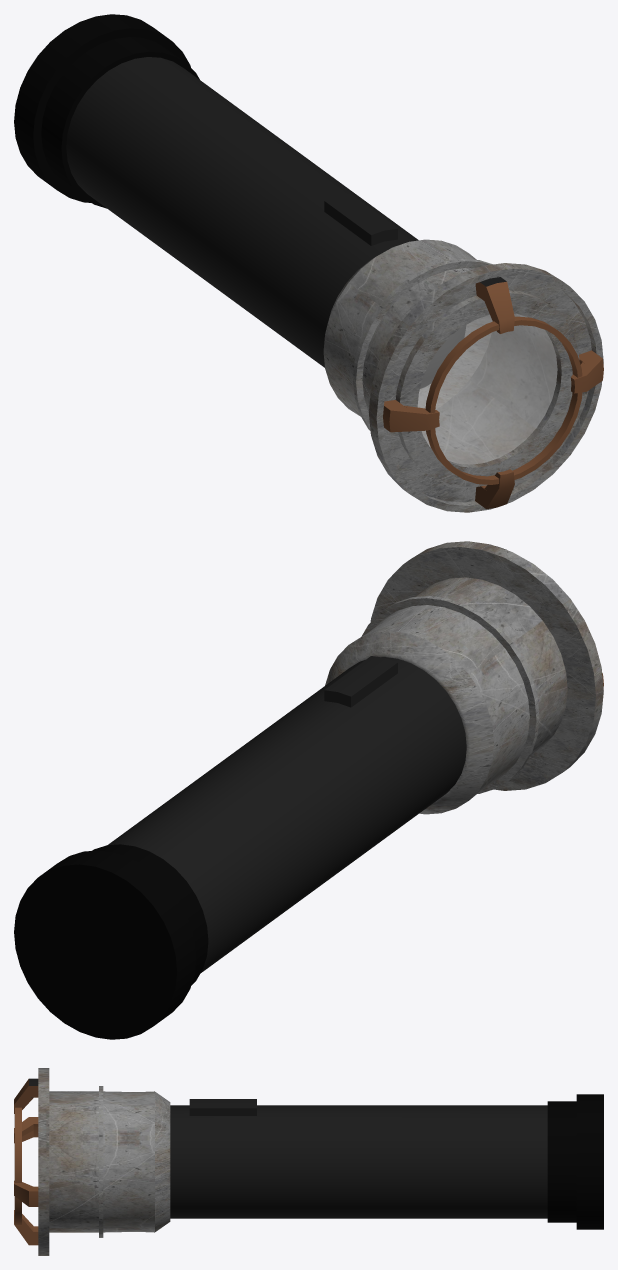
File: 懐中電灯.fbx
3 views of the same model, one above another, from view 1: azimuth 30°, elevation 25°; view 2: azimuth 150°, elevation 25°; view 3: azimuth 270°, elevation 25° (orthographic). The views are drawn at different scales.
Visible parts, largest first — view 1: FlashLight, FlashLight_FrontGlass, FlashLight_Button; view 2: FlashLight, FlashLight_Button; view 3: FlashLight, FlashLight_Button.
Boxes of the visible parts, x1,y1,x2,y2 form: FlashLight: (14,14,603,512); FlashLight_FrontGlass: (417,313,557,464); FlashLight_Button: (324,194,397,245); FlashLight: (14,541,603,1039); FlashLight_Button: (324,656,397,707); FlashLight: (14,1068,603,1255); FlashLight_Button: (189,1099,256,1115).
Bounding box in the file's own units: 0.9923 × 0.9923 × 3.11.
